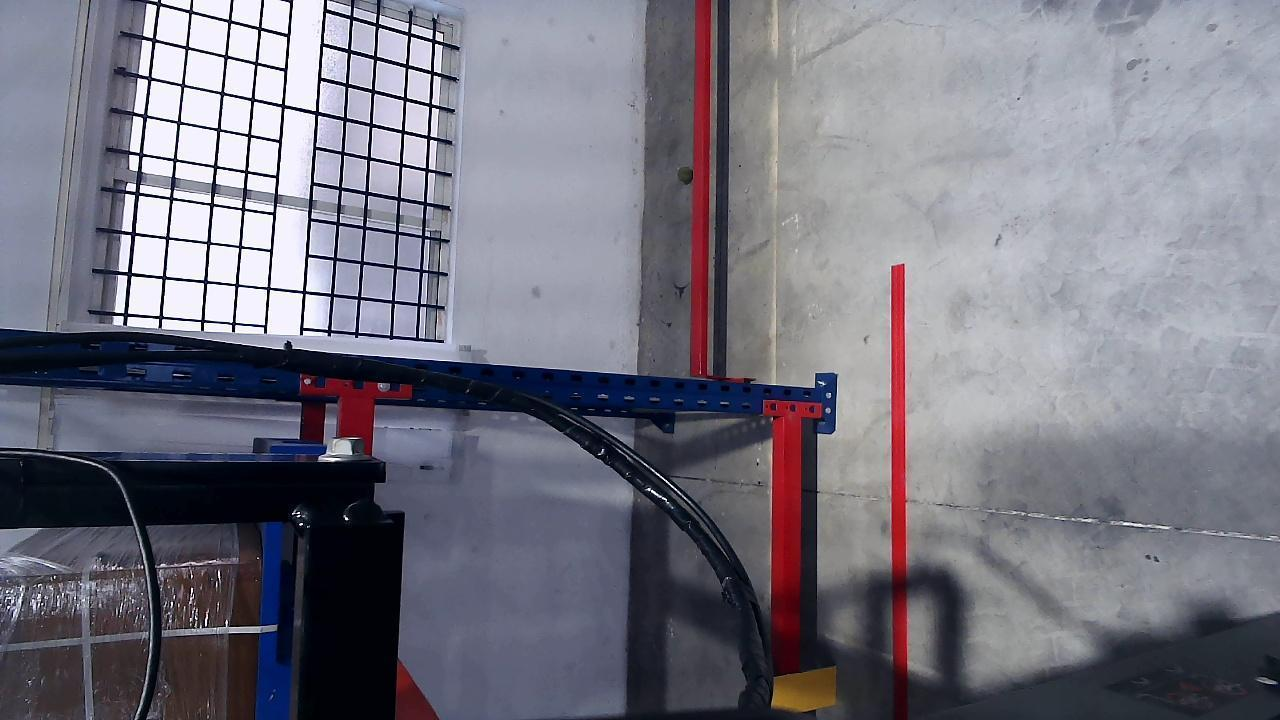red_line: (886, 259, 908, 717)
